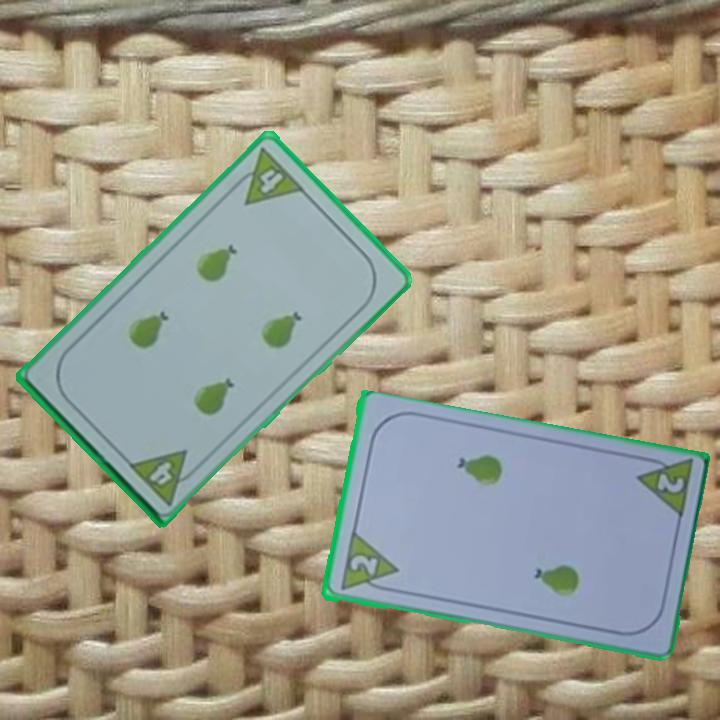2p: (631, 452, 696, 523), (336, 530, 400, 596)
4p: (227, 144, 307, 208), (125, 445, 203, 508)
